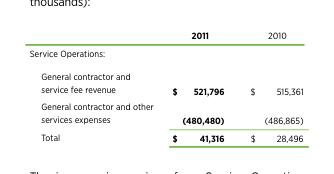table: (28, 29, 302, 143)
table column: (28, 29, 162, 143), (162, 29, 236, 143), (236, 29, 302, 143)
table column header: (28, 29, 302, 44)
table projected row header: (28, 44, 302, 64)
table row: (28, 64, 302, 98), (28, 98, 302, 128), (28, 44, 302, 64), (28, 29, 302, 44), (28, 128, 302, 143)
